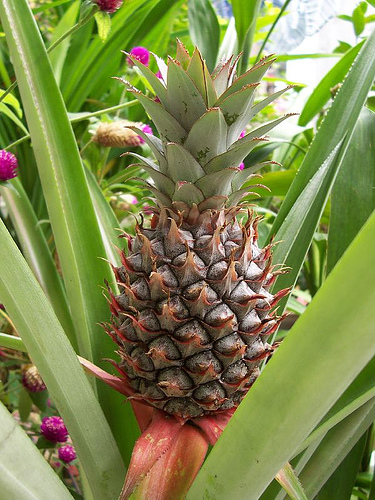pineapple: (100, 42, 297, 422)
